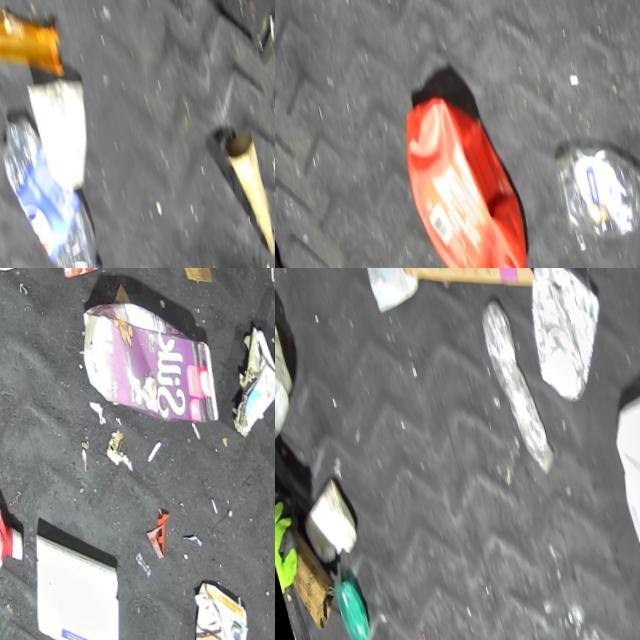can: (505, 268, 623, 406)
milk_jug: (275, 268, 306, 444)
non_white_jug: (383, 79, 545, 268), (68, 276, 226, 444), (168, 567, 265, 640)
plastic_bottle: (0, 96, 106, 268), (472, 293, 559, 483)
